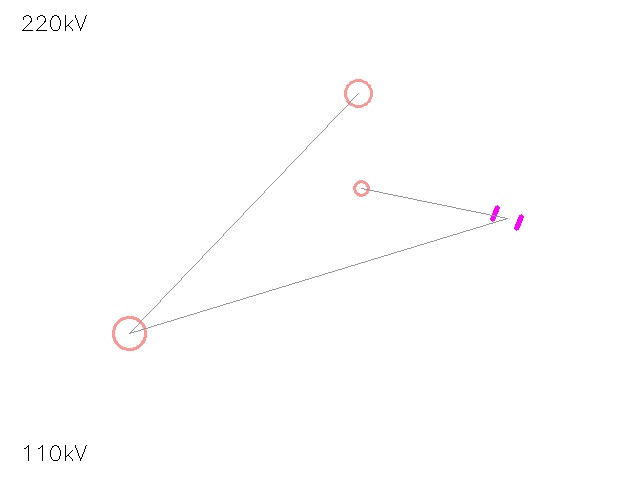capacitor: (485, 196, 529, 240)
fuse: (332, 67, 384, 119), (346, 173, 376, 203)
surge_arrester: (96, 300, 162, 366)
